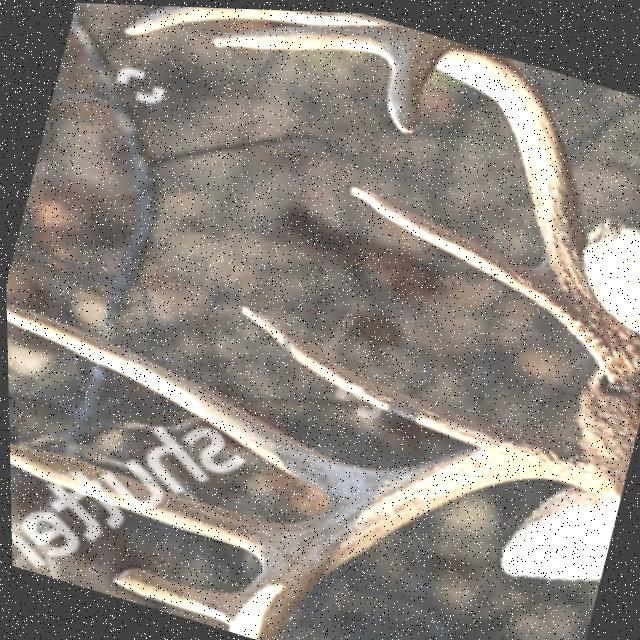L-F: (224, 426, 611, 640)
L-G1: (234, 303, 513, 446)
L-G2: (5, 303, 363, 497)
L-G3: (8, 442, 276, 556)
L-G4: (109, 564, 236, 621)
R-F: (384, 25, 640, 381)
R-G1: (344, 184, 542, 302)
R-G4: (207, 22, 403, 56)
